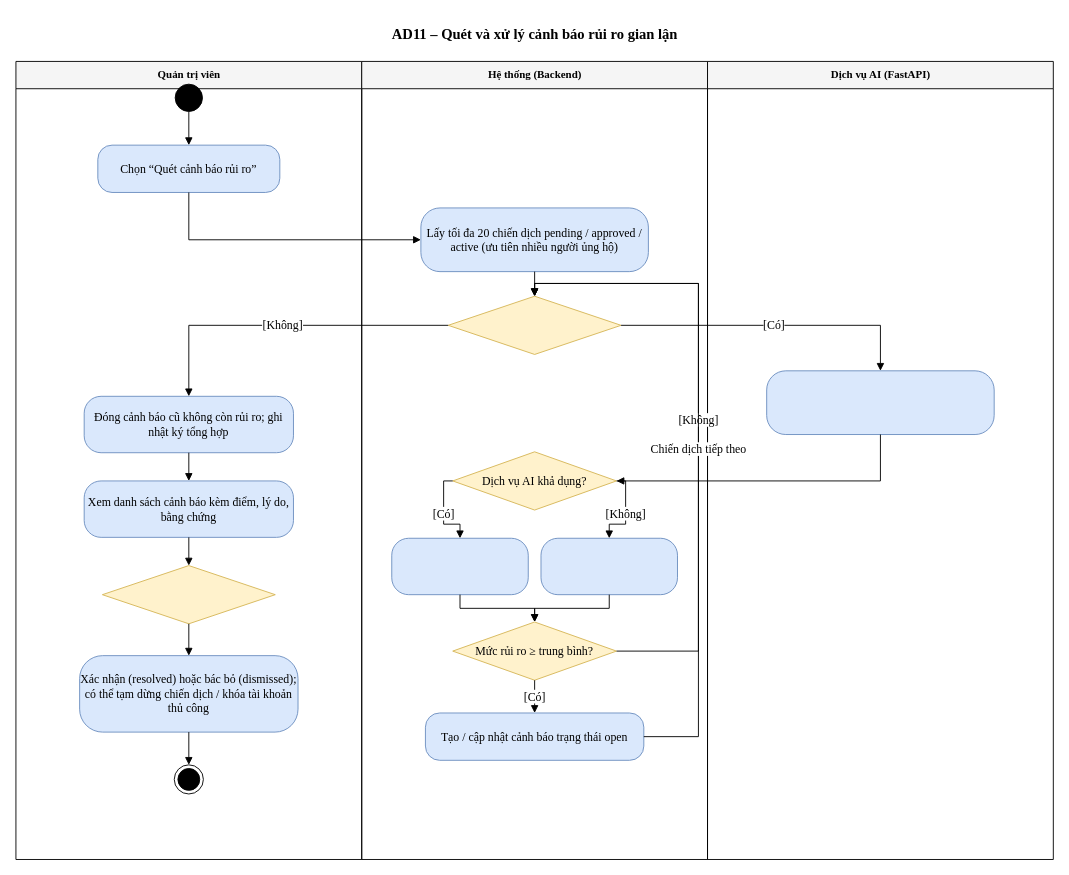
The diagram is 1069 pixels wide and 875 high, and some of its shapes have lost their labels. The centre of each missing label's shape, as x and y in pixels:
"Chấm điểm rủi ro: tầng luật + Isolation Forest; trả lý do, bằng chứng" goes at (x=880, y=402).
"Còn chiến dịch chưa chấm?" goes at (x=534, y=324).
"Dùng điểm, lý do, bằng chứng từ AI" goes at (x=459, y=566).
"Dự phòng: chấm bằng luật nghiệp vụ" goes at (x=608, y=566).
"Đánh giá của quản trị viên?" goes at (x=188, y=594).
